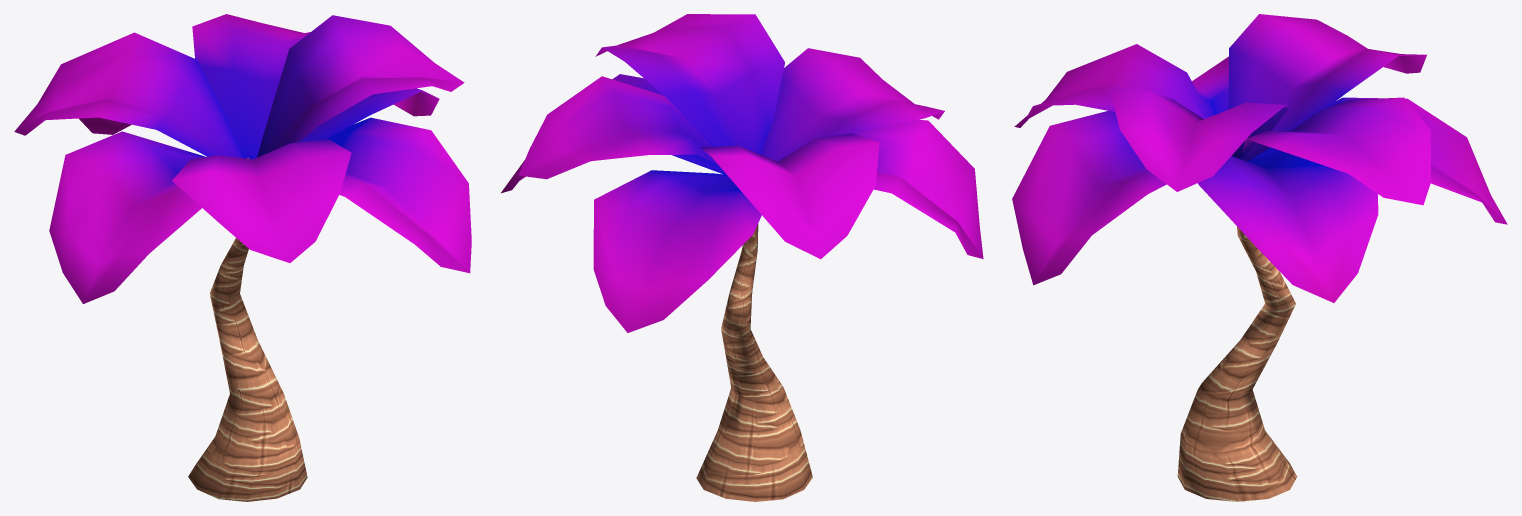
File: Tree_Palm_03.fbx
3 views of the same model, side by side, from view 1: azimuth 30°, elevation 25°; view 2: azimuth 150°, elevation 25°; view 3: azimuth 270°, elevation 25° (orthographic). The views are drawn at different scales.
Visible parts, largest first — view 1: Palm_03; view 2: Palm_03; view 3: Palm_03.
Part boxes in pixels (<box>): Palm_03: <box>14,14,471,501</box>; Palm_03: <box>501,14,983,501</box>; Palm_03: <box>1012,14,1507,501</box>.
Bounding box in the file's own units: 357 × 343 × 362.
